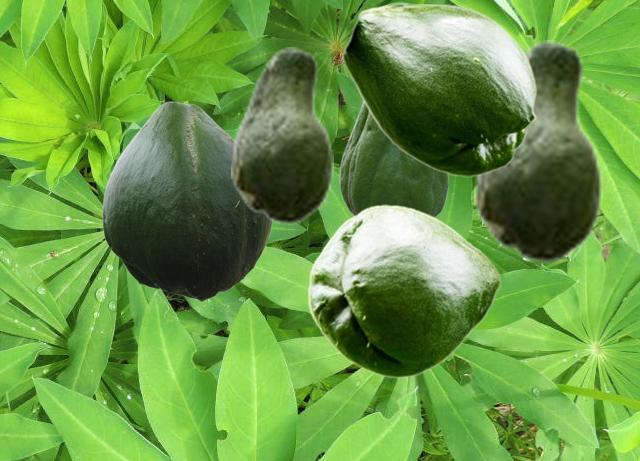sayote: (102, 101, 271, 301), (342, 3, 536, 176), (307, 204, 500, 377), (474, 40, 601, 263), (231, 47, 332, 224), (339, 102, 448, 216)
